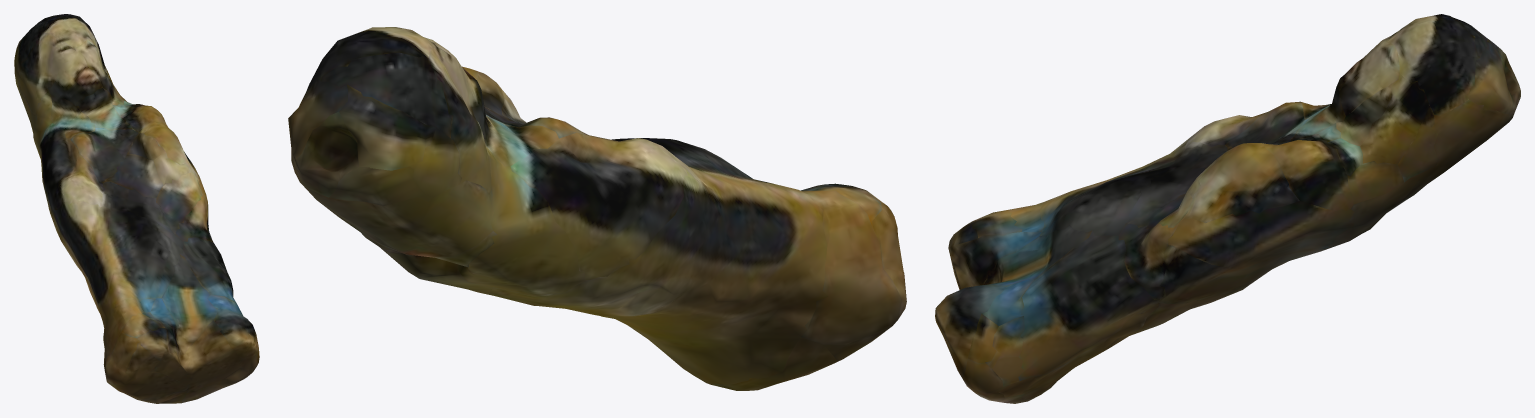
Rendered from hall.glb.
3 views of the same model, side by side, from view 1: azimuth 30°, elevation 25°; view 2: azimuth 150°, elevation 25°; view 3: azimuth 270°, elevation 25° (orthographic). The views are drawn at different scales.
Bounding box in the file's own units: 0.3131 × 0.4734 × 0.6407.
Materials: 1 (1 with a texture image).
